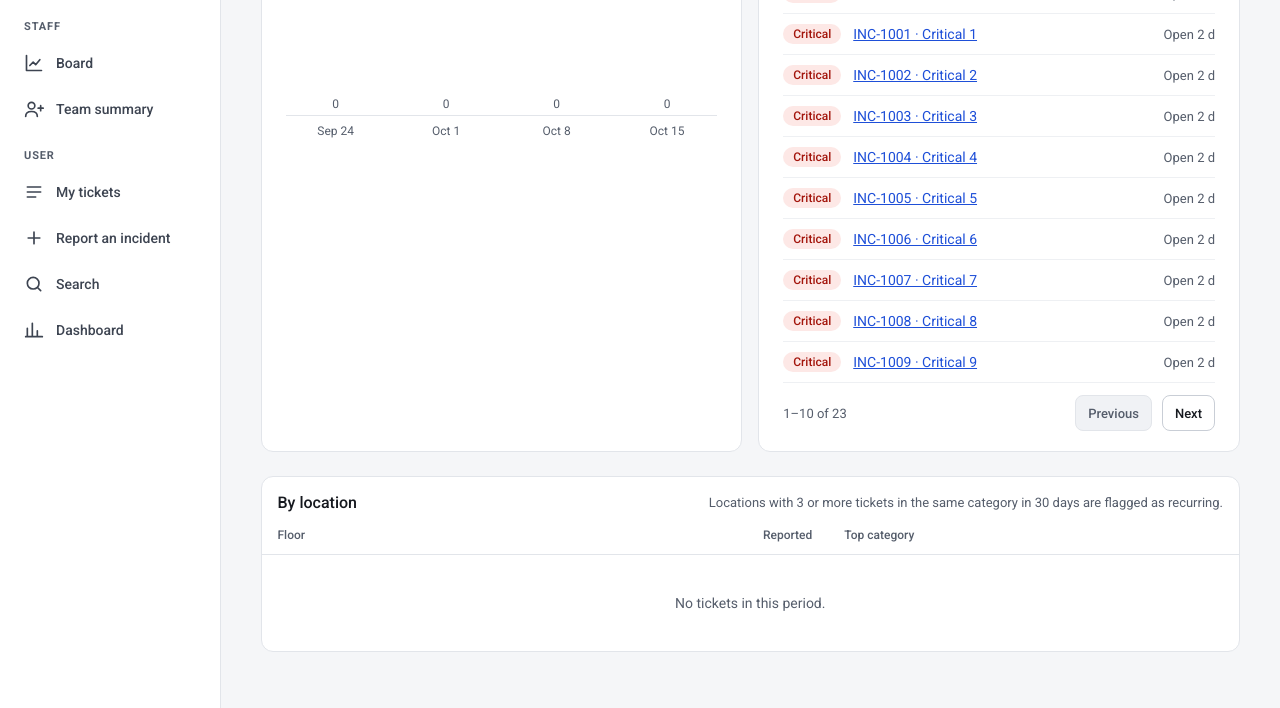
Test: overview needs a decision › shows 10 items at a time and pages through the rest
(page scrolled)
Expected: the text "1–10 of 23" is shown, [783, 406, 847, 420]
Expected: the button "Previous" is disabled, [1075, 395, 1152, 431]
Step 1. Click the button "Next" → coordinates (1188, 413), box [1162, 395, 1215, 431]
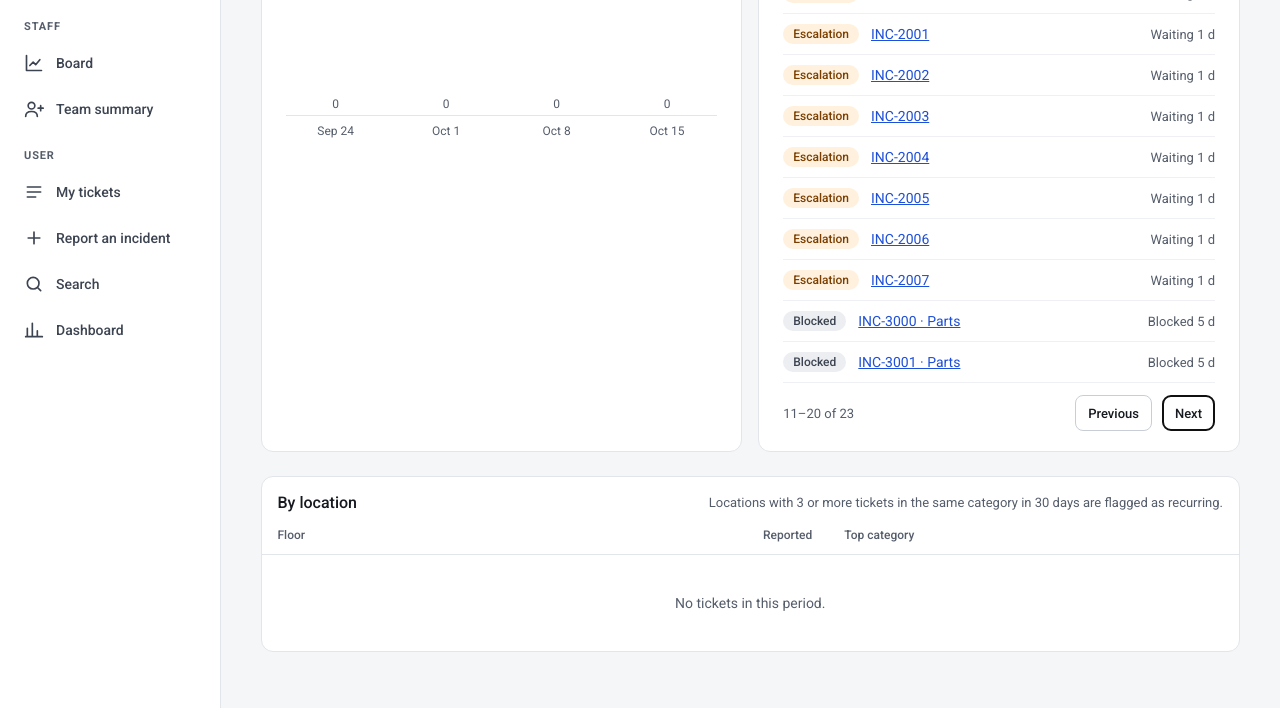
Now the text "11–20 of 23" is shown, box [783, 406, 854, 420]
Step 2. Click the button "Next" → coordinates (1188, 413), box [1162, 395, 1215, 431]
(page scrolled)
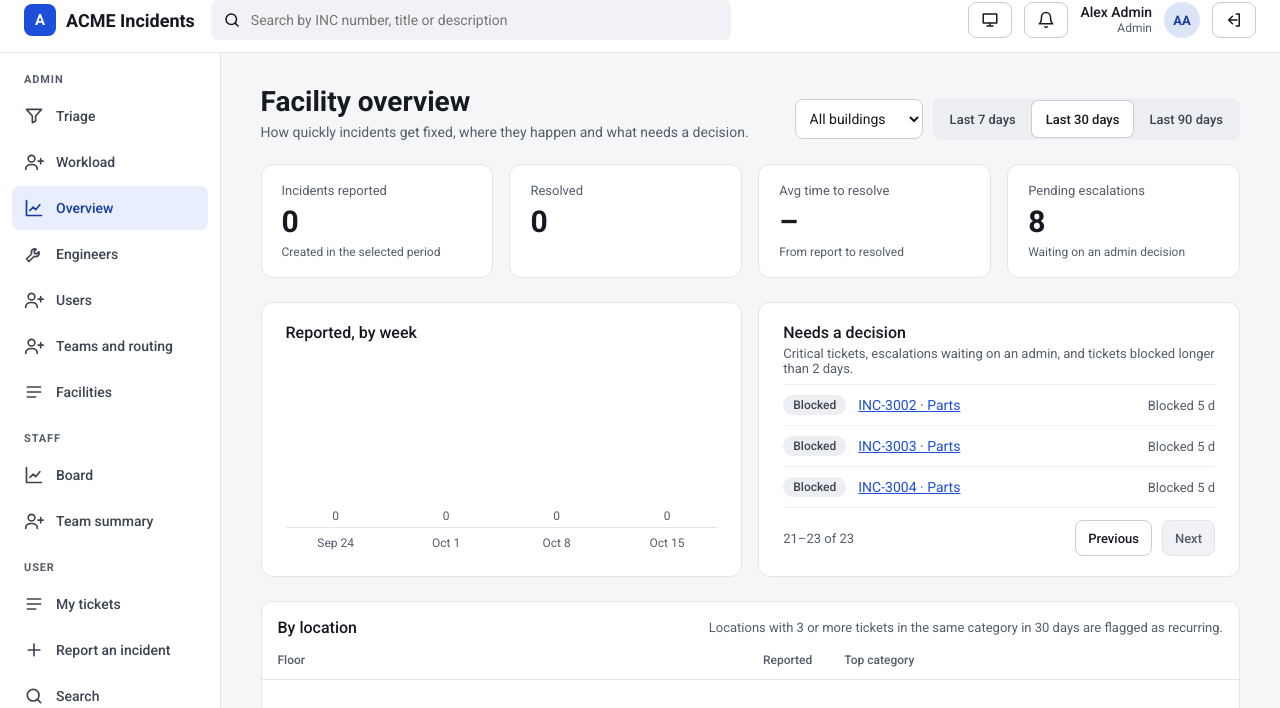
Now the text "21–23 of 23" is shown, box [783, 530, 854, 546]
Now the button "Next" is disabled, box [1162, 520, 1215, 556]
# A new period starts again from the first page.
Step 3. Click the button "Last 7 days" → coordinates (983, 119), box [936, 101, 1030, 137]
(page scrolled)
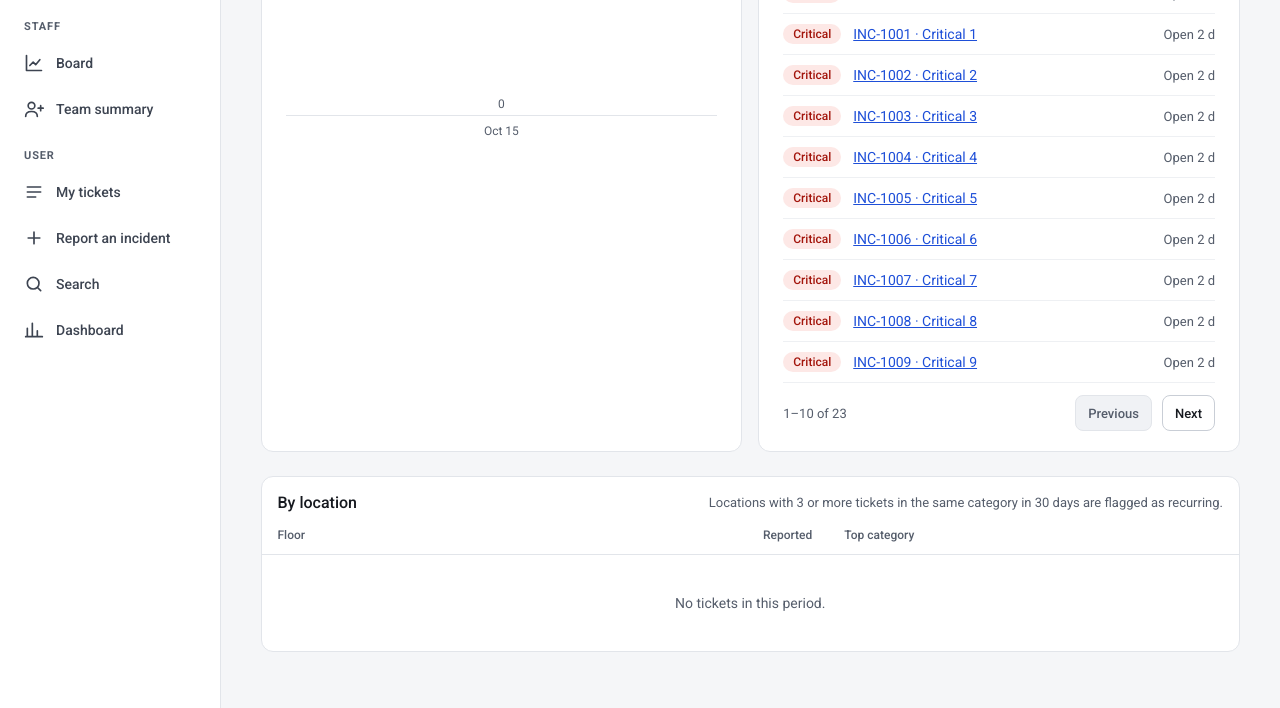
Now the text "1–10 of 23" is shown, box [783, 406, 847, 420]
